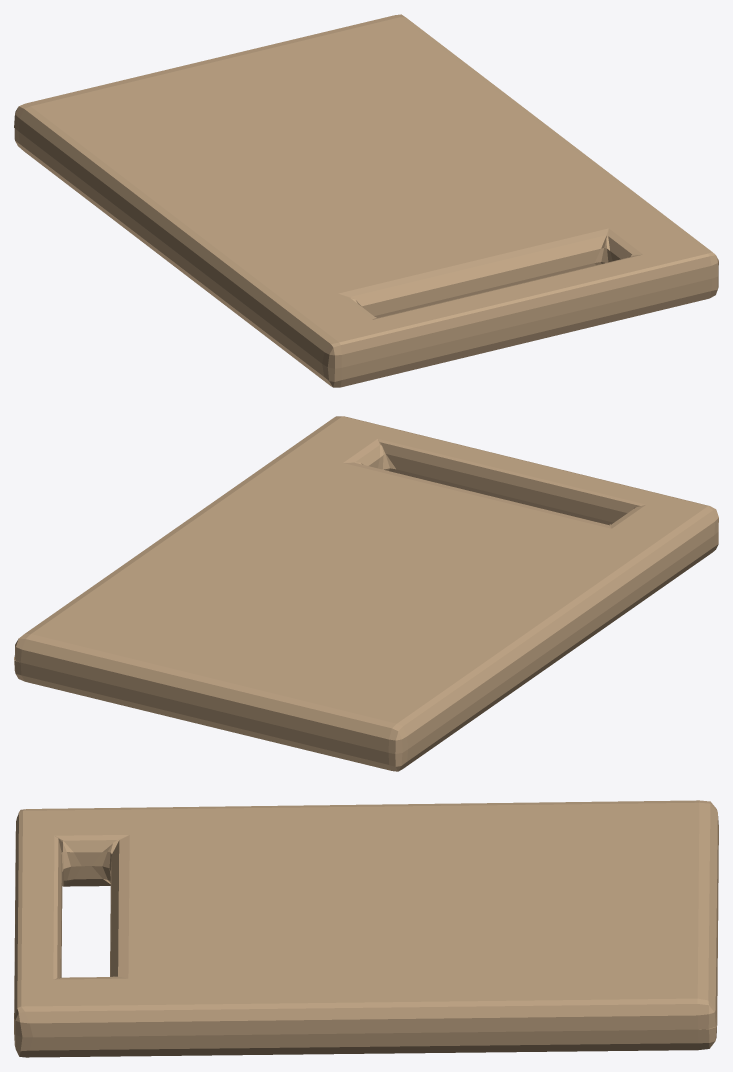
Rendered from tabla.fbx.
3 renders of one model, top to bottom at view 1: azimuth 30°, elevation 25°; view 2: azimuth 150°, elevation 25°; view 3: azimuth 270°, elevation 25°, orthographic. The views are drawn at different scales.
Visible parts, largest first — view 1: Plane.008; view 2: Plane.008; view 3: Plane.008.
Part boxes in pixels (<box>): Plane.008: <box>14,14,718,387</box>; Plane.008: <box>14,416,718,771</box>; Plane.008: <box>14,800,718,1057</box>.
Size of the model in its own units: 131 by 12 by 91.8.
